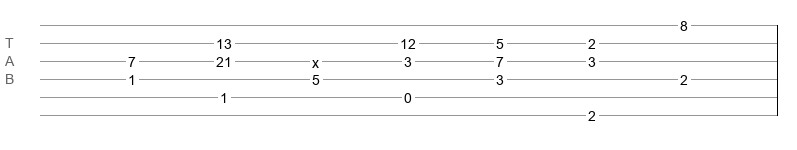0: (404, 90, 412, 100)
1: (128, 72, 136, 82), (220, 90, 228, 100)
12: (400, 36, 416, 46)
13: (216, 36, 232, 46)
2: (588, 108, 596, 118), (588, 36, 596, 46), (680, 72, 688, 82)
21: (216, 54, 232, 64)
3: (404, 54, 412, 64), (496, 72, 504, 82), (588, 54, 596, 64)
5: (312, 72, 320, 82), (496, 36, 504, 46)
7: (128, 54, 136, 64), (496, 54, 504, 64)
8: (680, 18, 688, 28)
x: (312, 55, 319, 63)
